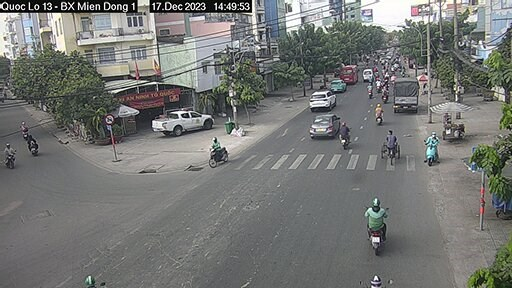car: (161, 107, 226, 149), (309, 86, 337, 120), (311, 109, 335, 145)
motorbike: (366, 193, 386, 242), (207, 135, 231, 170), (337, 120, 347, 159)
truck: (395, 74, 414, 121)
